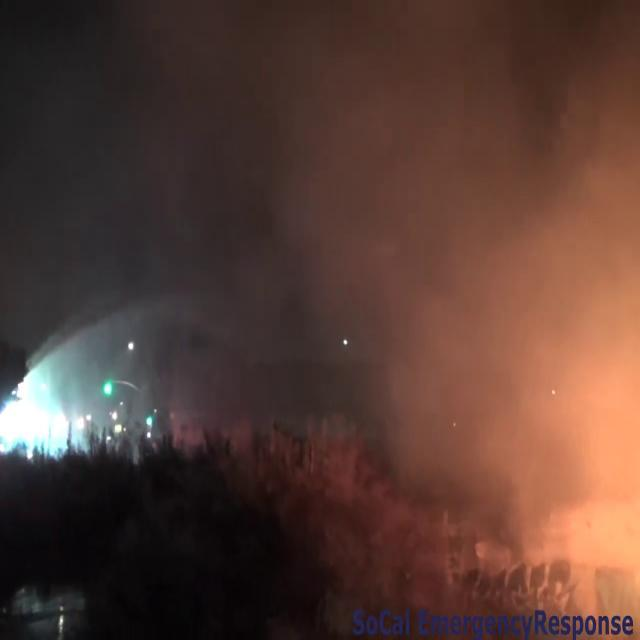Smoke: (120, 0, 640, 532)
